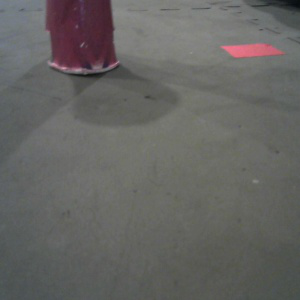middle: (44, 1, 120, 74)
